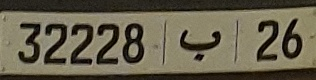2: (94, 22, 121, 65), (42, 22, 68, 66), (256, 18, 280, 63), (69, 23, 94, 65)
3: (17, 20, 41, 64)
6: (281, 16, 304, 61)
8: (120, 22, 146, 65)
b: (179, 28, 222, 62)
